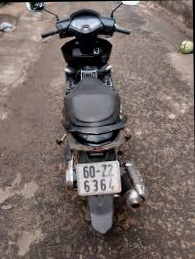Bien-so: (72, 154, 117, 193)
